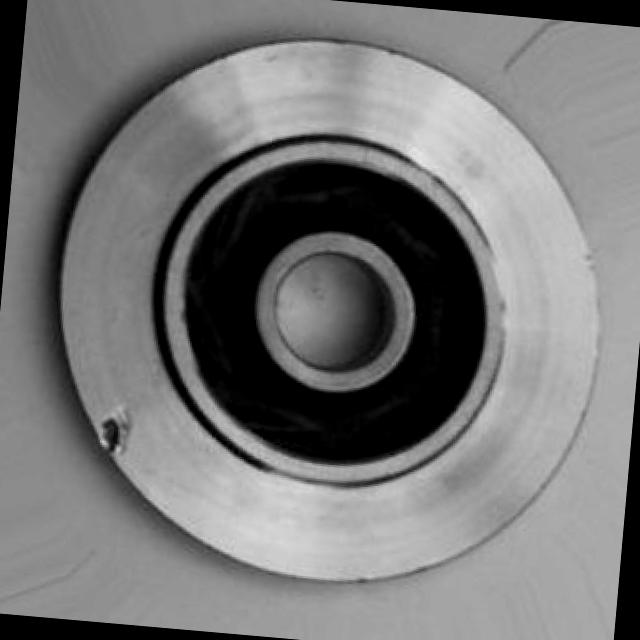Defect: (84, 404, 138, 472)
